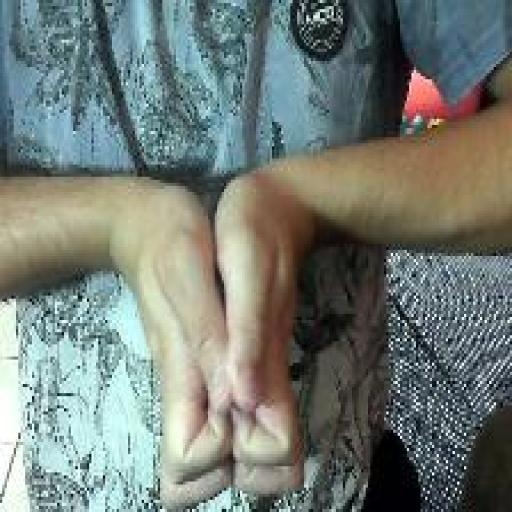I -boar-: (129, 164, 307, 512)
